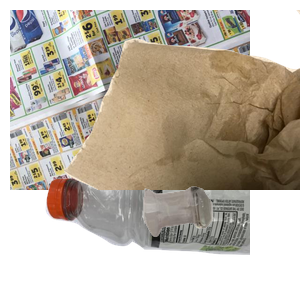glass: (141, 184, 300, 300)
paper: (10, 10, 250, 190)
plastic: (43, 152, 283, 300)
trash: (60, 10, 300, 190)
